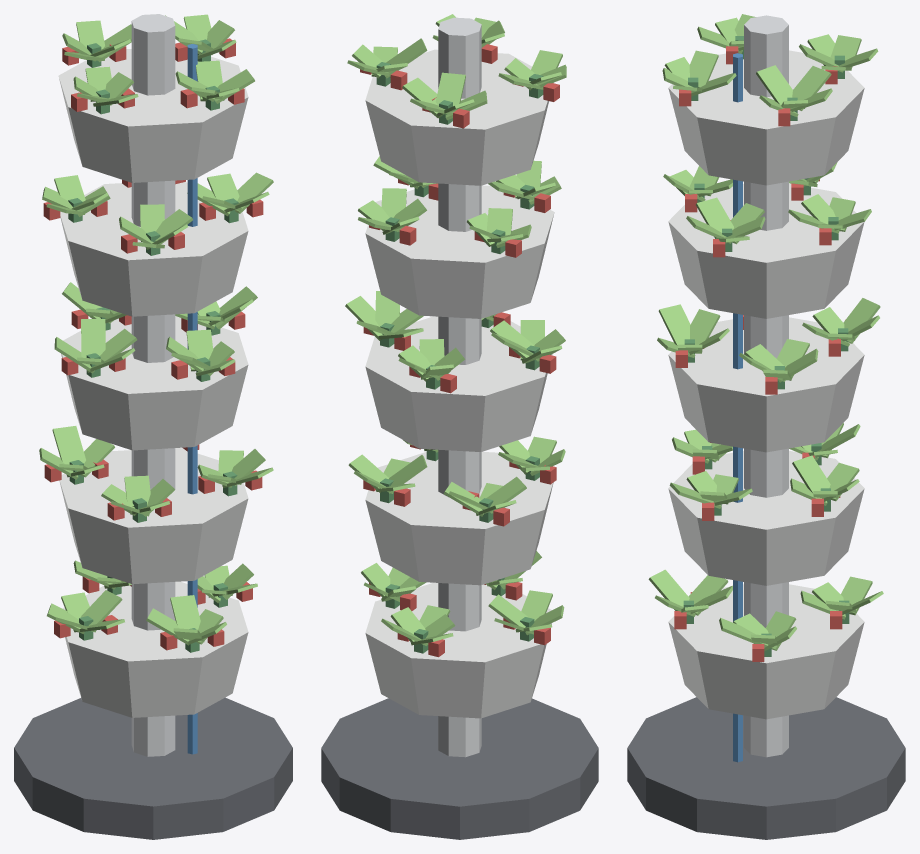
File: vertical-farm-and-hydroponics-tower-vertical-farm-and--6c81fef7__38355.glb
3 views of the same model, side by side, from view 1: azimuth 30°, elevation 25°; view 2: azimuth 150°, elevation 25°; view 3: azimuth 270°, elevation 25° (orthographic).
Visible parts, largest first — view 1: vertical-farm-and-hydroponics-tower-strawberry-tower; view 2: vertical-farm-and-hydroponics-tower-strawberry-tower; view 3: vertical-farm-and-hydroponics-tower-strawberry-tower.
Part boxes in pixels (x1=…): vertical-farm-and-hydroponics-tower-strawberry-tower: x1=14, y1=14, x2=292, y2=839; vertical-farm-and-hydroponics-tower-strawberry-tower: x1=321, y1=14, x2=598, y2=839; vertical-farm-and-hydroponics-tower-strawberry-tower: x1=627, y1=14, x2=905, y2=839.
Bounding box in the file's own units: 0.68 × 2.04 × 0.68.
